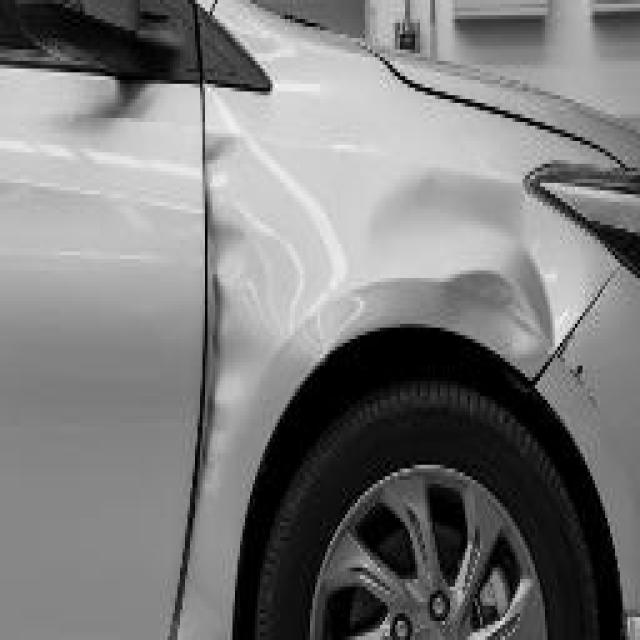Fender: (168, 85, 623, 640)
